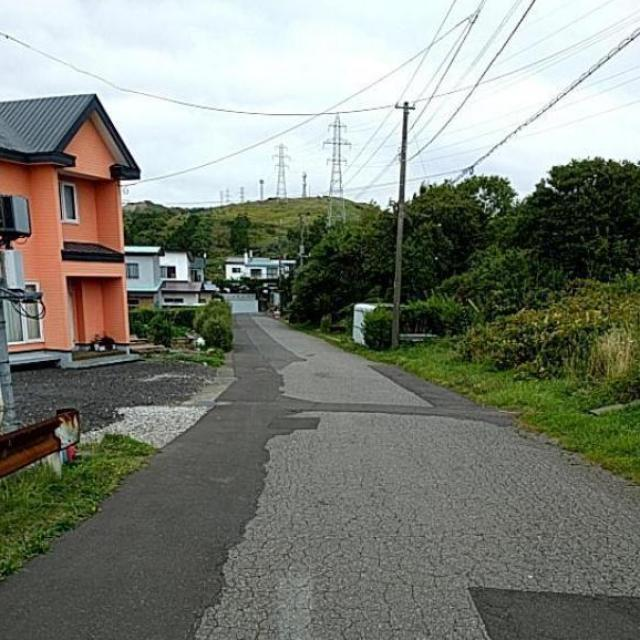Sambungan: (0, 369, 320, 640), (457, 587, 640, 640)
